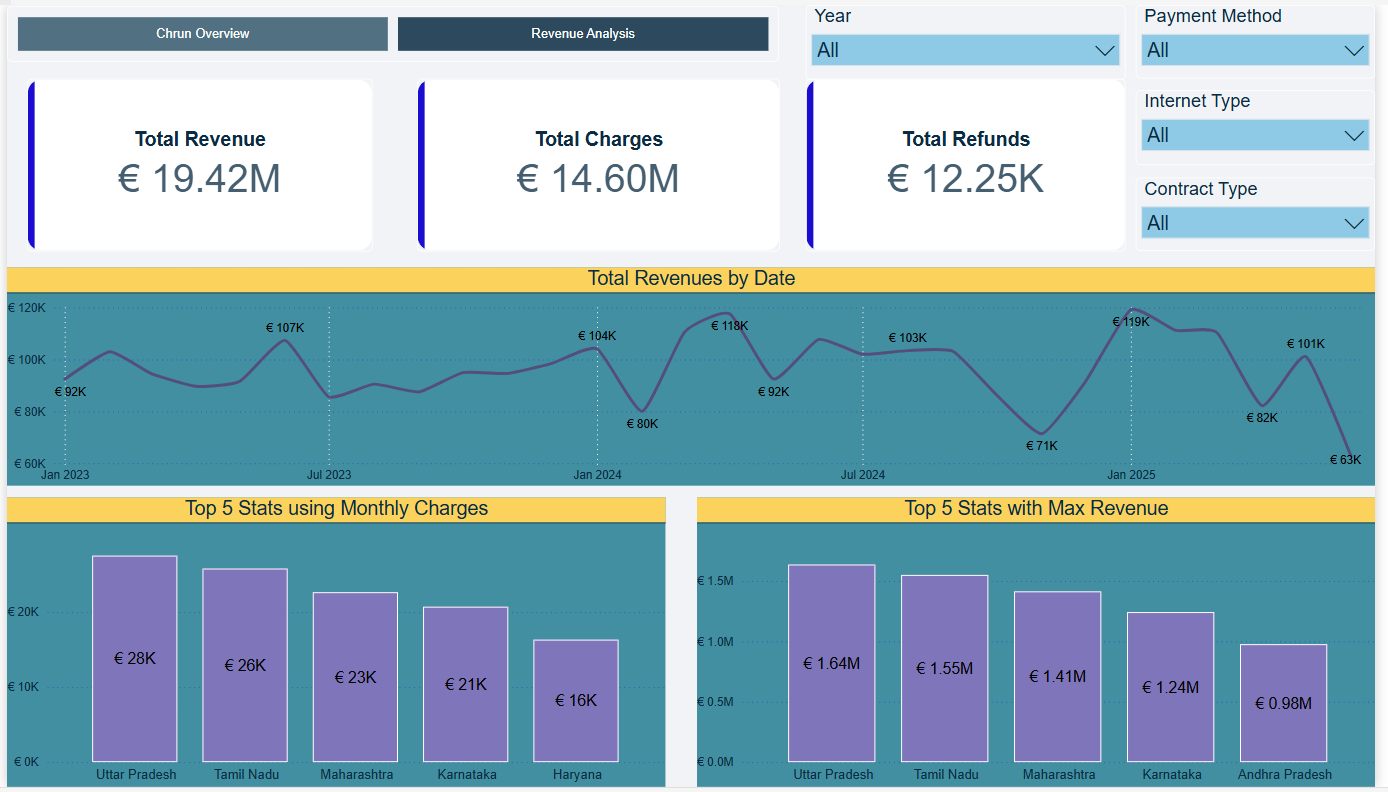

Layout of this report page (visuals, bound fields, positions):
{"tool":"powerbi","page":{"name":"Revenue Analysis","canvas":[1400,800],"ordinal":1},"visuals":[{"type":"lineStackedColumnComboChart","title":"Top 5 Stats using Monthly Charges","fields":{"Y":["Sum(Top 10 Stats with Monthly Charges.Monthly Charges)"],"Category":["Top 10 Stats with Monthly Charges.State"]},"box":[0,504.3,673.9,295.7],"z":0},{"type":"cardVisual","fields":{"Data":["Sum(Fact_Customer_Churned.Total_Revenue)"]},"box":[20.3,75.4,353.6,176.8],"z":1},{"type":"cardVisual","fields":{"Data":["Sum(Fact_Customer_Churned.Total_Charges)"]},"box":[418.8,75.4,371,176.8],"z":2},{"type":"cardVisual","fields":{"Data":["Sum(Fact_Customer_Churned.Total_Refunds)"]},"box":[817.4,75.4,327.5,176.8],"z":3},{"type":"pageNavigator","box":[0,1.4,789.9,56.5],"z":4},{"type":"lineChart","title":"Total Revenues by Date","fields":{"Category":["Dim Date.Date.Variation.Date Hierarchy.Year","Dim Date.Date.Variation.Date Hierarchy.Quarter","Dim Date.Date.Variation.Date Hierarchy.Month","Dim Date.Date.Variation.Date Hierarchy.Day"],"Y":["Sum(Fact_Customer_Churned.Total_Revenue)"]},"box":[0,268.1,1400,223.2],"z":5},{"type":"slicer","fields":{"Values":["Dim_InternetType.Internet_Type"]},"box":[1155.1,87,244.9,76.8],"z":6},{"type":"slicer","fields":{"Values":["Dim_PaymentMethod.Payment_Method"]},"box":[1155.1,0,244.9,75.4],"z":7},{"type":"clusteredColumnChart","title":"Top 5 Stats with Max Revenue","fields":{"Category":["Top 5 Stats with Max Revenue.State"],"Y":["Sum(Top 5 Stats with Max Revenue.Revenues)"]},"box":[705.8,504.3,694.2,295.7],"z":8},{"type":"slicer","fields":{"Values":["Dim Date.Date.Variation.Date Hierarchy.Year"]},"box":[817.4,0,327.5,76.8],"z":9},{"type":"slicer","fields":{"Values":["Dim_ContractType.Contract"]},"box":[1155.1,176.8,244.9,75.4],"z":10}]}

Visuals, with their boxes in screenshot pixels (x1, y1, x2, y2), scaled from the page's 1400x800 canvas onto the 1388x792 screenshot:
"Top 5 Stats using Monthly Charges" lineStackedColumnComboChart: left=0, top=499, right=668, bottom=791
cardVisual - Sum(Fact_Customer_Churned.Total_Revenue): left=20, top=75, right=371, bottom=250
cardVisual - Sum(Fact_Customer_Churned.Total_Charges): left=415, top=75, right=783, bottom=250
cardVisual - Sum(Fact_Customer_Churned.Total_Refunds): left=810, top=75, right=1135, bottom=250
pageNavigator: left=0, top=1, right=783, bottom=57
"Total Revenues by Date" lineChart: left=0, top=265, right=1387, bottom=486
slicer - Dim_InternetType.Internet_Type: left=1145, top=86, right=1387, bottom=162
slicer - Dim_PaymentMethod.Payment_Method: left=1145, top=0, right=1387, bottom=75
"Top 5 Stats with Max Revenue" clusteredColumnChart: left=700, top=499, right=1387, bottom=791
slicer - Dim Date.Date.Variation.Date Hierarchy.Year: left=810, top=0, right=1135, bottom=76
slicer - Dim_ContractType.Contract: left=1145, top=175, right=1387, bottom=250
